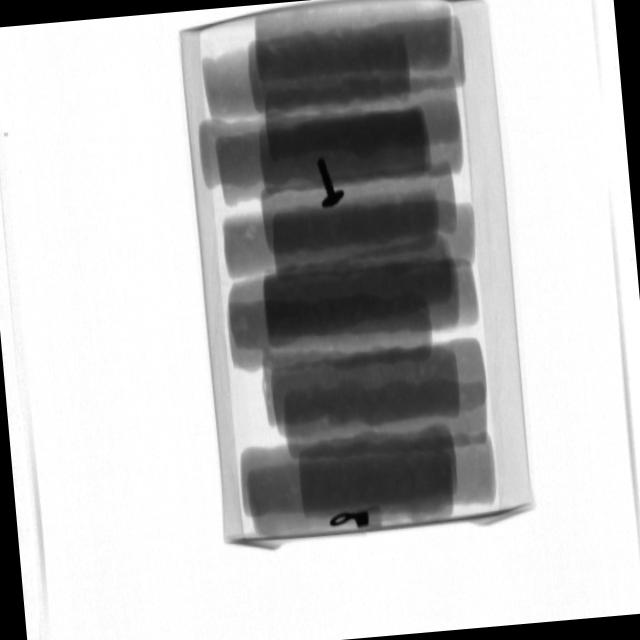ym: (316, 155, 346, 210), (329, 512, 370, 534)
